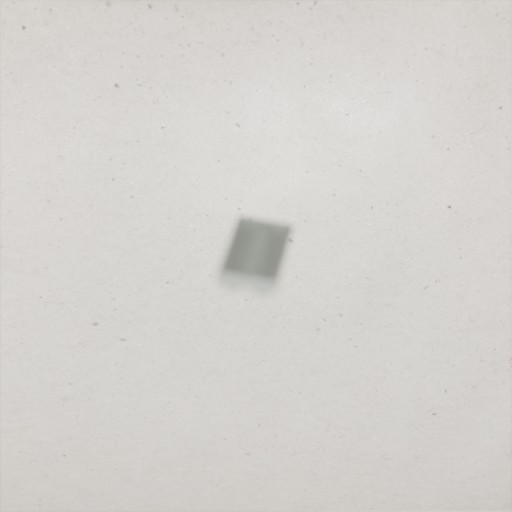lego: (215, 215, 294, 297)
